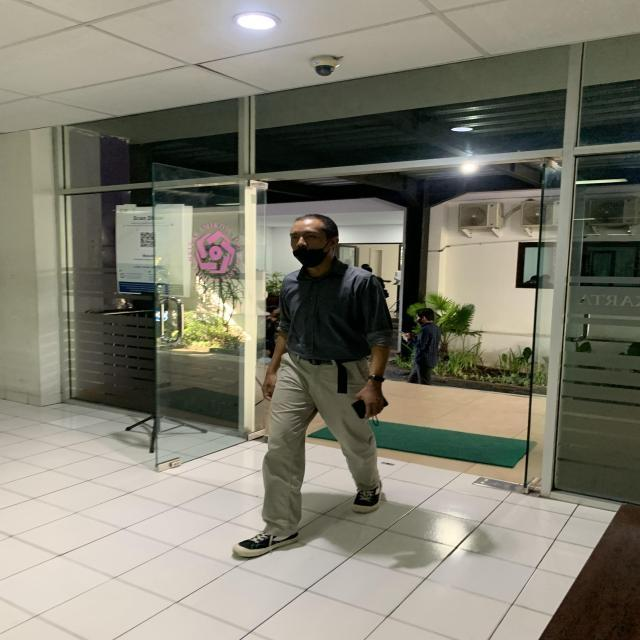hairnet: (291, 234, 337, 266)
